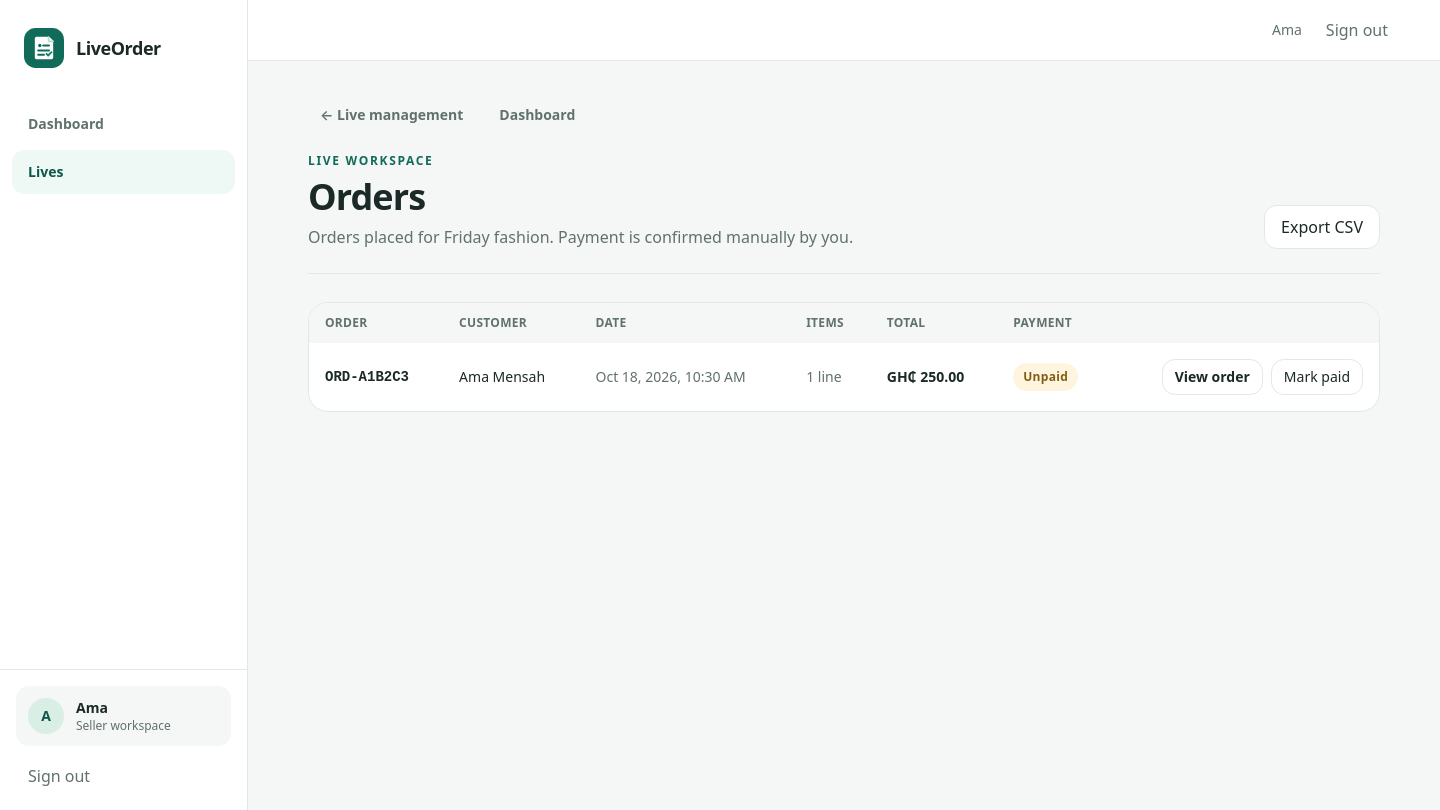
Test: seller order management › keeps a failed payment update unpaid and allows CSV export
The image size is (1440, 810).
Click the button "Mark paid": (1317, 377) [1271,359,1363,395]
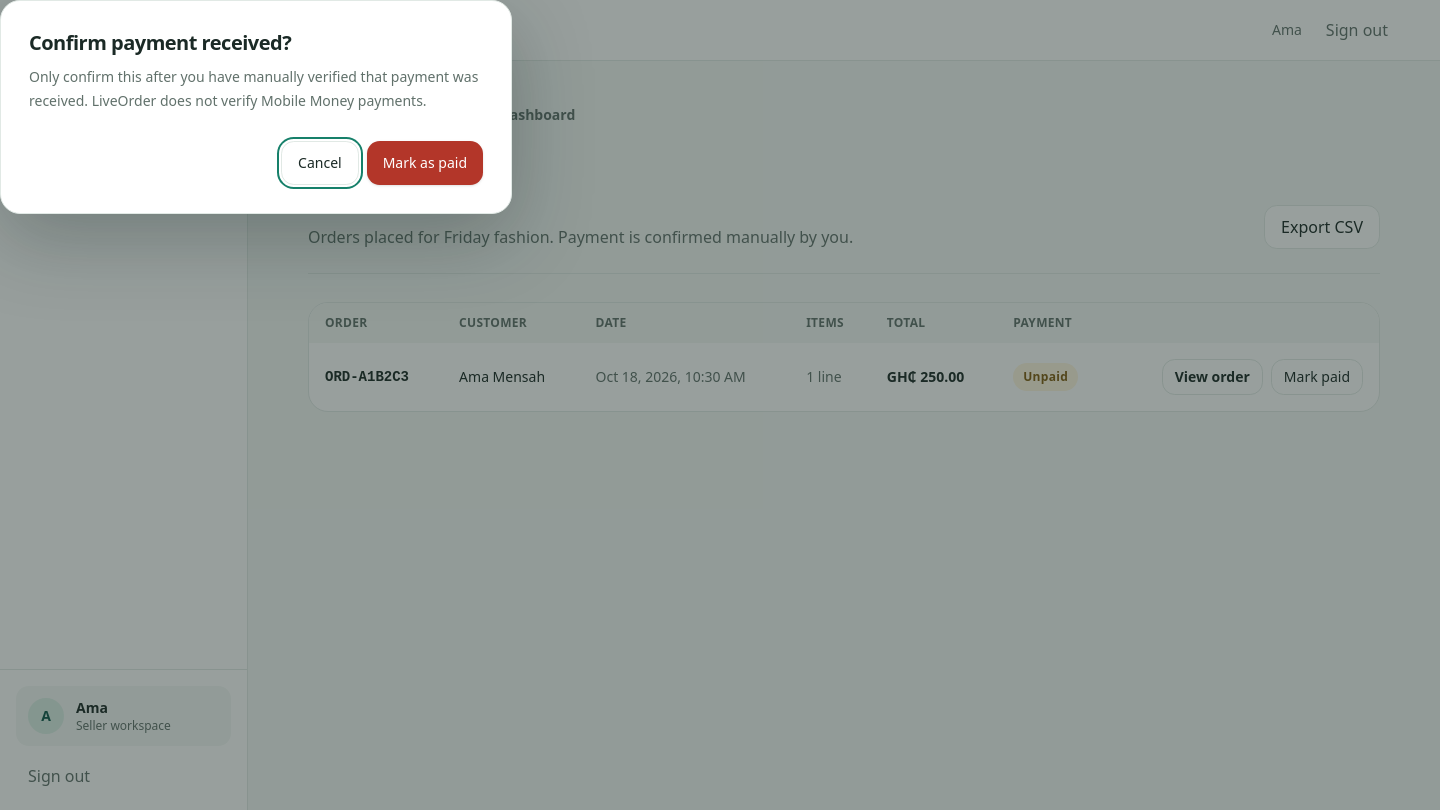
Click the button "Mark as paid": (425, 163) [367,141,483,185]
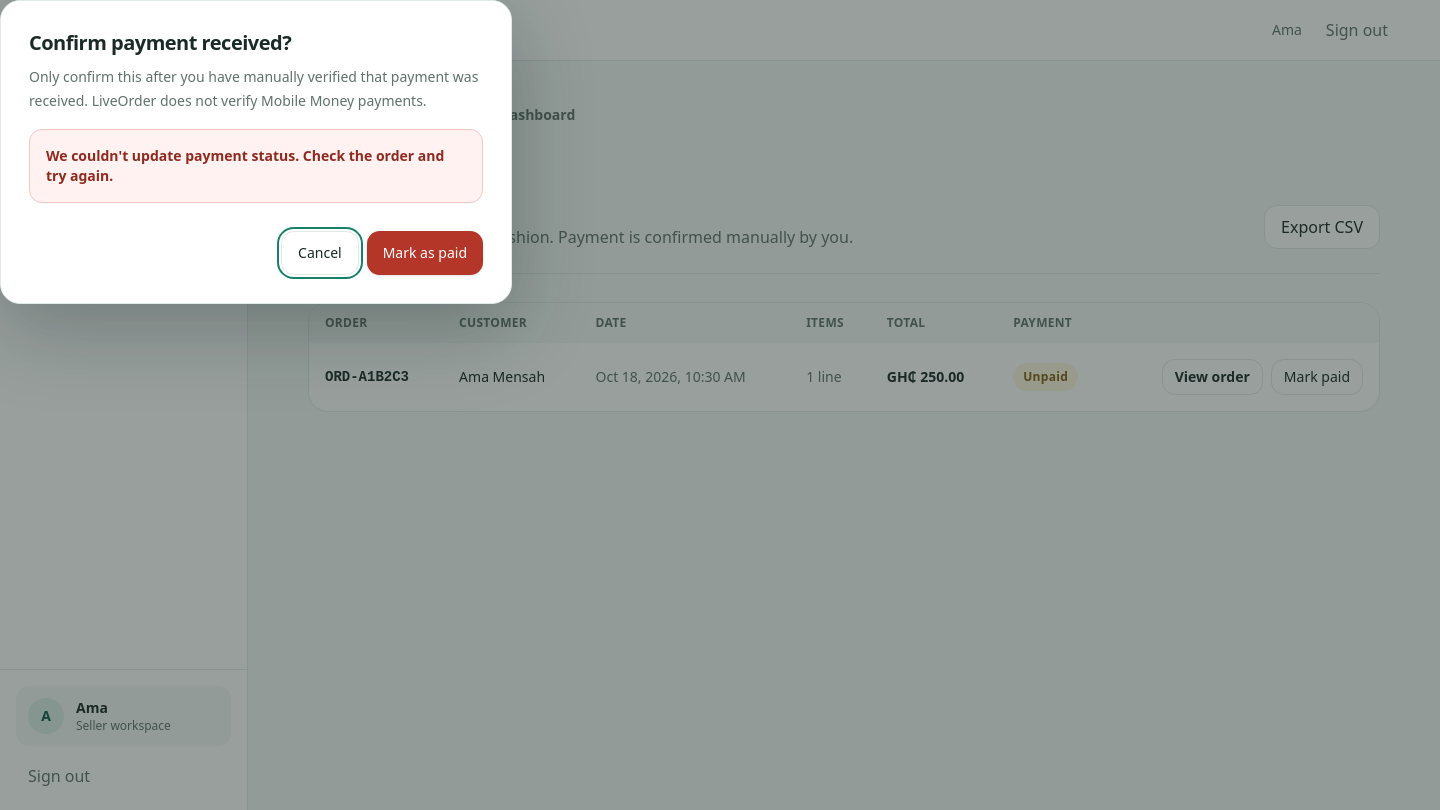
Expected: the text "We couldn't update payment status. Check the order and try again." is shown, [46,146,466,186]
